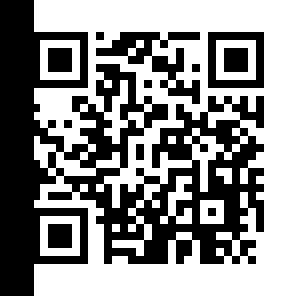QR_CODE: (22, 22, 276, 274)
